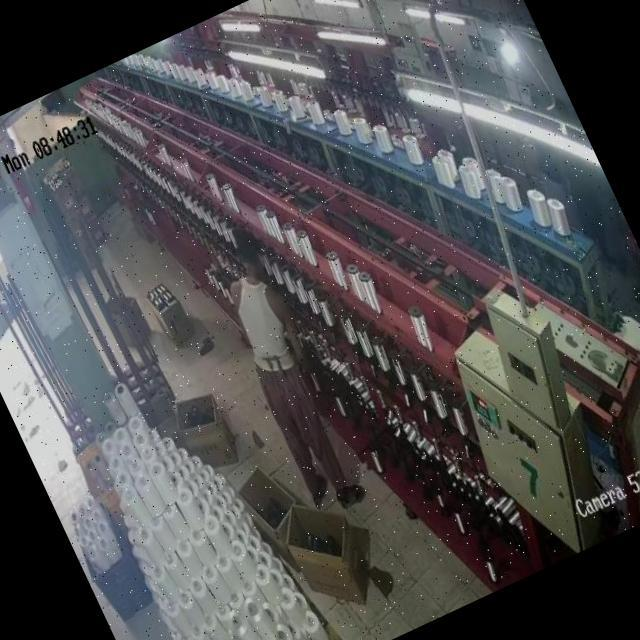person: (191, 230, 360, 490)
